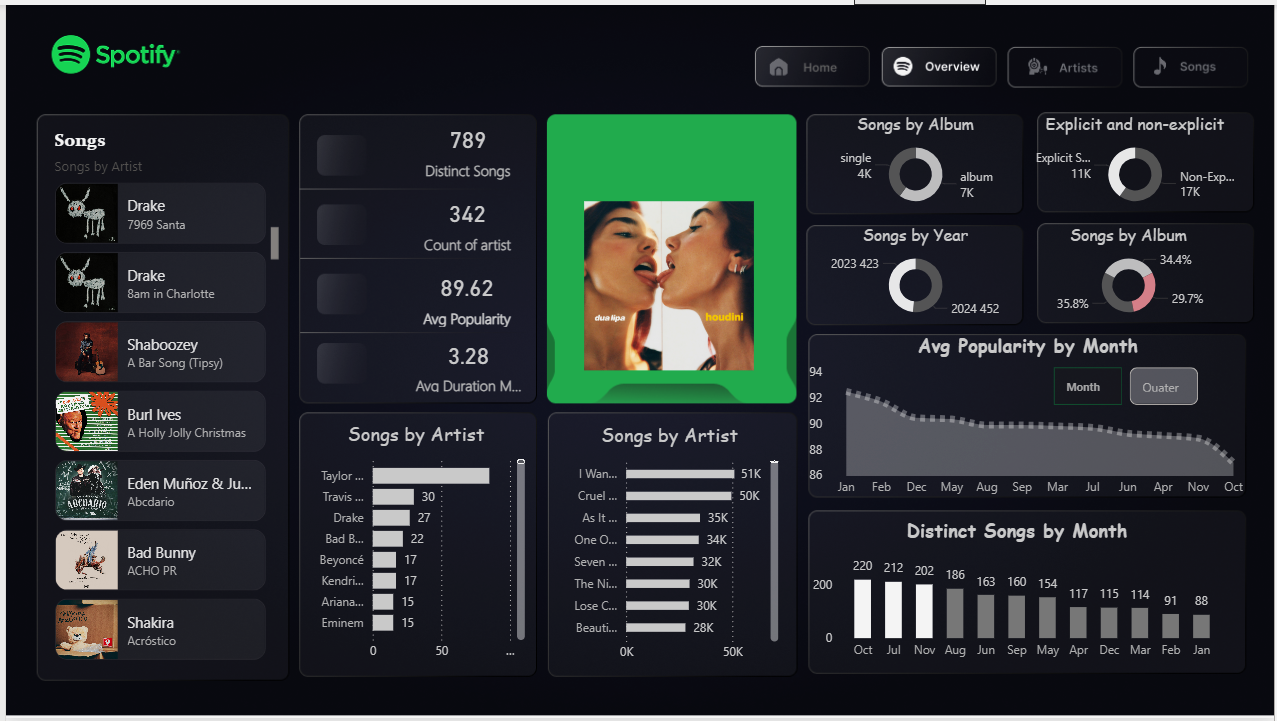

The dashboard page shown, as its layout file describes it:
{"tool":"powerbi","page":{"name":"Page 1","canvas":[1280,720],"ordinal":0},"visuals":[{"type":"clusteredBarChart","title":"Songs by Artist","fields":{"Y":["_Measures.Distinct Songs"],"Category":["Top-50-World.artist"]},"box":[300,419.3,228.7,250.3],"z":0},{"type":"clusteredBarChart","title":"Songs by Artist","fields":{"Category":["Top-50-World.song"],"Y":["Sum(Top-50-World.popularity)"]},"box":[555.2,421,228.7,250.3],"z":1000},{"type":"areaChart","fields":{"Category":["Top-50-World.Month"],"Y":["_Measures.Avg Popularity"]},"box":[805.5,329.8,452.5,174],"z":2000},{"type":"advancedSlicerVisual","fields":{"Values":["Slicer_option.Slicer_option"]},"box":[1052.4,359.6,157.4,48.1],"z":3000},{"type":"donutChart","title":"Songs by Album","fields":{"Y":["Month.Explicit Songs"],"Category":["Top-50-World.album_type"]},"box":[817.1,109.4,200.5,101.1],"z":4000},{"type":"donutChart","title":"Explicit and non-explicit","fields":{"Y":["Month.Non-Explicit Songs","Month.Explicit Songs"]},"box":[1032.5,109.4,213.8,101.1],"z":5000},{"type":"donutChart","title":"Songs by Year","fields":{"Y":["Month.Distinct Songs"],"Category":["Top-50-World.Year"]},"box":[817.1,220.4,200.5,101.1],"z":6000},{"type":"donutChart","title":"Songs by Album","fields":{"Category":["Top-50-World.album_type"],"Y":["Month.Avg Popularity"]},"box":[1032.5,220.4,200.5,101.1],"z":7000},{"type":"clusteredColumnChart","fields":{"Category":["Top-50-World.Month"],"Y":["Month.Distinct Songs"]},"box":[808.8,517.1,424.3,152.5],"z":8000},{"type":"card","fields":{"Values":["Month.Distinct Songs"]},"box":[410,109.4,111,72.9],"z":9000},{"type":"card","fields":{"Values":["Count(Top-50-World.artist)"]},"box":[415,182.3,101.1,76.2],"z":10000},{"type":"card","fields":{"Values":["Month.Avg Duration Minutes"]},"box":[406.7,330.4,118.6,65.7],"z":11000},{"type":"card","fields":{"Values":["Month.Avg Popularity"]},"box":[412.5,258.5,106.1,71.3],"z":12000},{"type":"advancedSlicerVisual","title":"Songs","fields":{"Values":["Top-50-World.song"]},"box":[43.5,124.7,236.2,544.3],"z":12001},{"type":"cardVisual","fields":{"Data":["Min(Top-50-World.album_cover_url)"]},"box":[493.6,0,351.3,396.7],"z":12002}]}

Visuals, with their boxes in screenshot pixels (x1, y1, x2, y2), scaled from the page's 1280x720 canvas onto the 1277x721 screenshot:
"Songs by Artist" clusteredBarChart: <bbox>299, 420, 527, 671</bbox>
"Songs by Artist" clusteredBarChart: <bbox>554, 422, 782, 672</bbox>
areaChart - Top-50-World.Month x _Measures.Avg Popularity: <bbox>804, 330, 1255, 504</bbox>
advancedSlicerVisual - Slicer_option.Slicer_option: <bbox>1050, 360, 1207, 408</bbox>
"Songs by Album" donutChart: <bbox>815, 110, 1015, 211</bbox>
"Explicit and non-explicit" donutChart: <bbox>1030, 110, 1243, 211</bbox>
"Songs by Year" donutChart: <bbox>815, 221, 1015, 322</bbox>
"Songs by Album" donutChart: <bbox>1030, 221, 1230, 322</bbox>
clusteredColumnChart - Top-50-World.Month x Month.Distinct Songs: <bbox>807, 518, 1230, 671</bbox>
card - Month.Distinct Songs: <bbox>409, 110, 520, 183</bbox>
card - Count(Top-50-World.artist): <bbox>414, 183, 515, 259</bbox>
card - Month.Avg Duration Minutes: <bbox>406, 331, 524, 397</bbox>
card - Month.Avg Popularity: <bbox>412, 259, 517, 330</bbox>
"Songs" advancedSlicerVisual: <bbox>43, 125, 279, 670</bbox>
cardVisual - Min(Top-50-World.album_cover_url): <bbox>492, 0, 843, 397</bbox>
